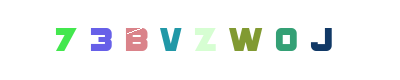0: (205, 0, 285, 80)
3: (62, 0, 142, 80)
7: (24, 0, 104, 80)
B: (101, 0, 181, 80)
J: (283, 0, 363, 80)
V: (159, 0, 239, 80)
W: (199, 0, 279, 80)
Z: (160, 0, 240, 80)
